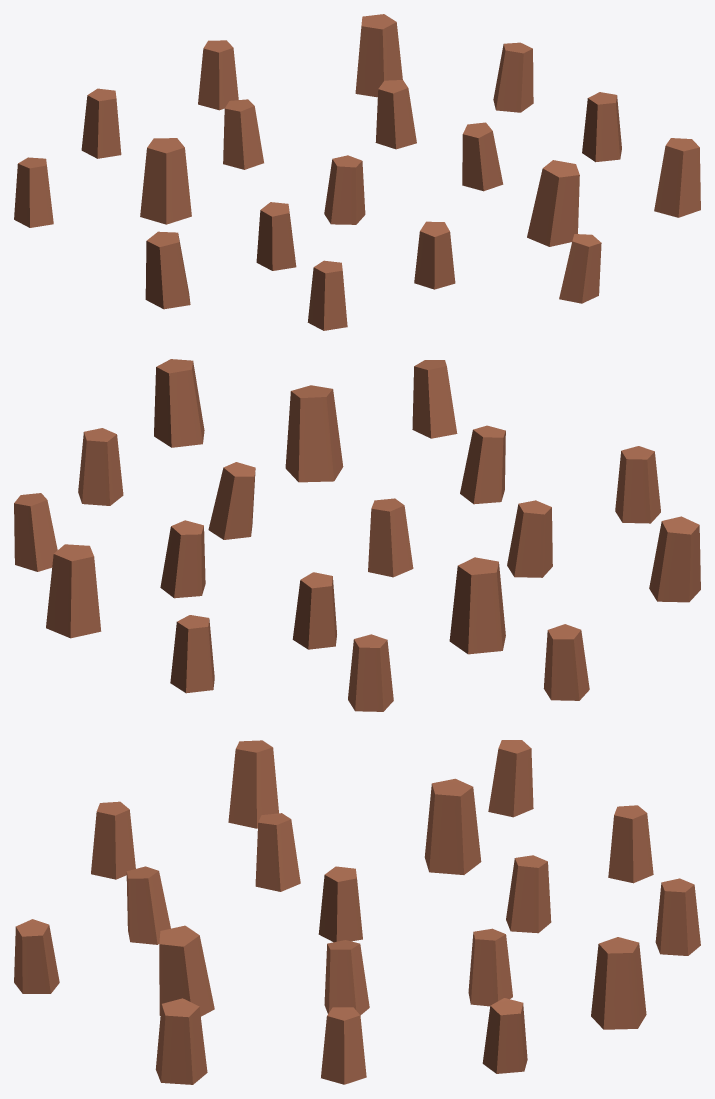
Rendered from trees_cut.glb.
3 renders of one model, top to bottom at view 1: azimuth 30°, elevation 25°; view 2: azimuth 150°, elevation 25°; view 3: azimuth 270°, elevation 25°, orthographic. The views are drawn at different scales.
Parts seen in each view (by area): view 1: trees_A_cut; view 2: trees_A_cut; view 3: trees_A_cut.
Part boxes in pixels (left/top/right/bottom): trees_A_cut: left=14, top=14, right=700, bottom=330; trees_A_cut: left=14, top=359, right=700, bottom=711; trees_A_cut: left=14, top=740, right=700, bottom=1084.
Size of the model in its own units: 1.66 by 0.2097 by 1.68.
Materials: 1 (1 with a texture image).
